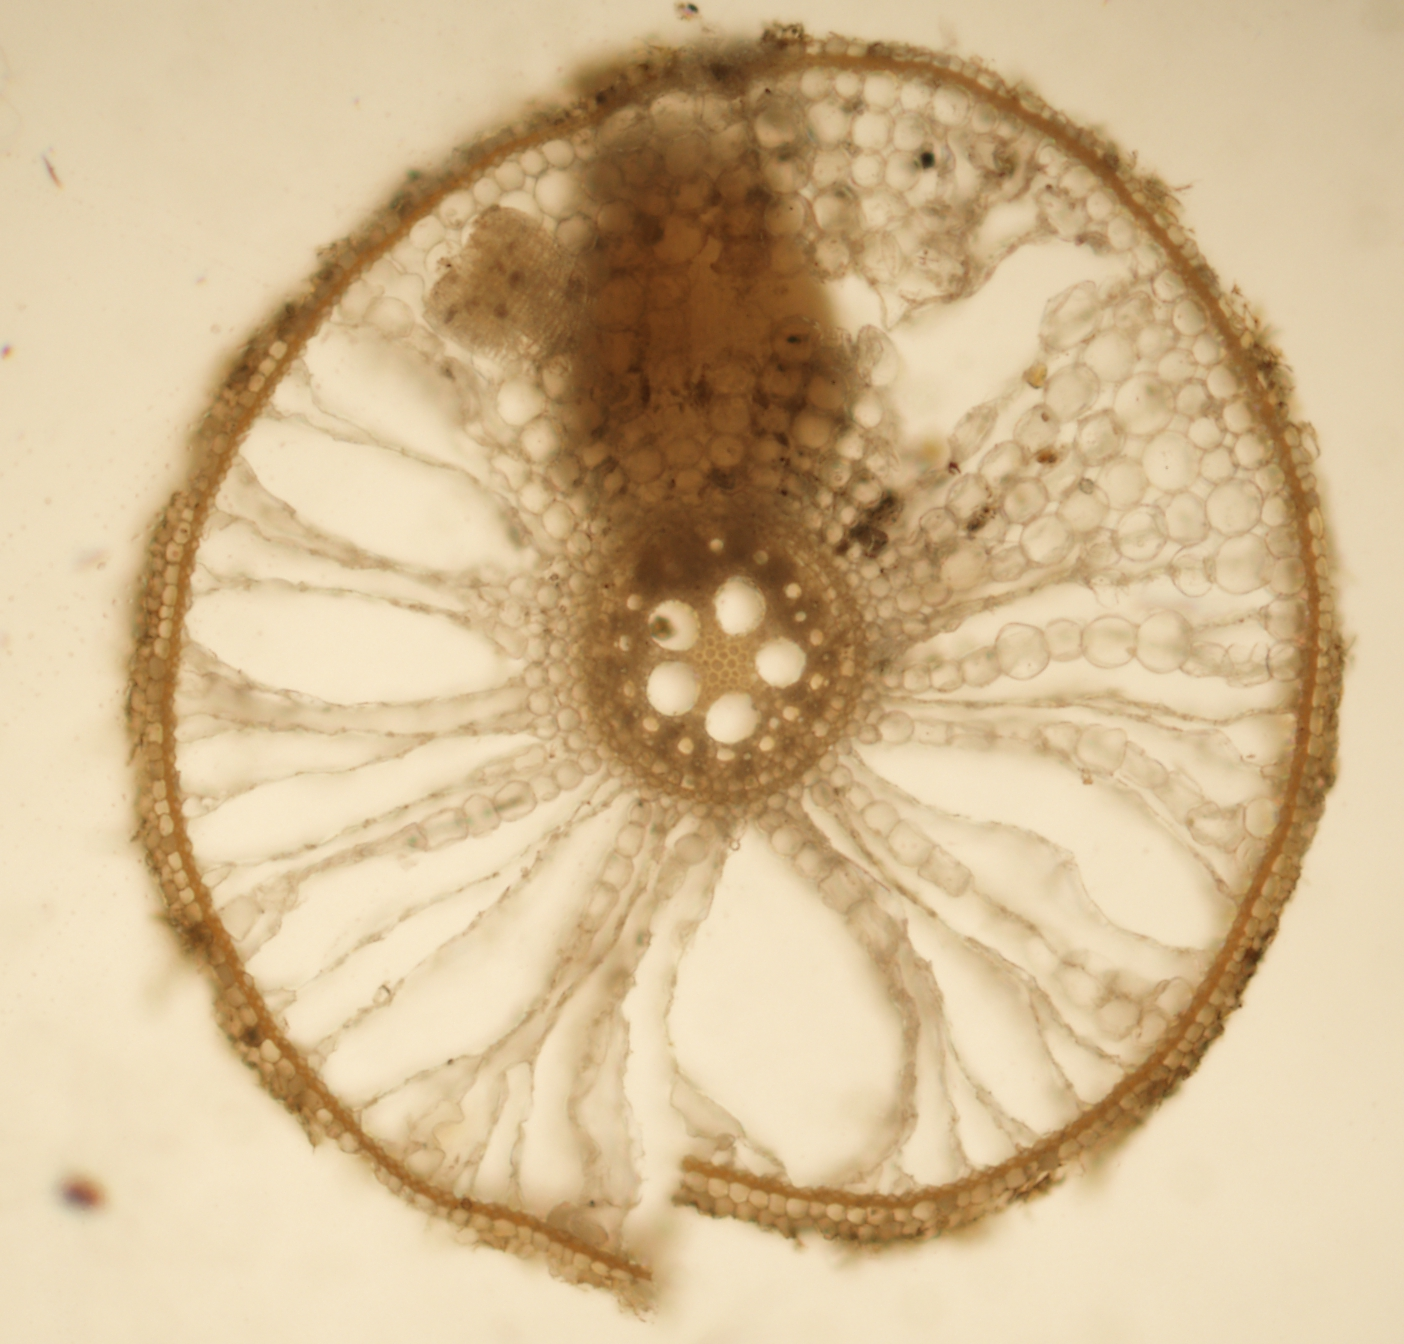lm: (712, 575, 767, 636), (646, 659, 702, 716), (705, 691, 762, 743), (755, 637, 809, 690), (647, 599, 702, 651)
